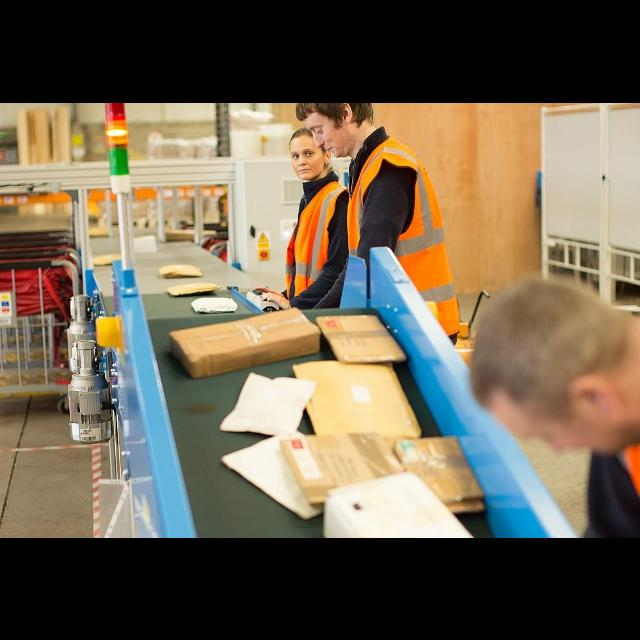box: (170, 307, 320, 377), (323, 471, 472, 537), (134, 235, 156, 250)
mailer: (281, 432, 403, 503), (221, 435, 322, 517), (394, 435, 484, 512), (220, 371, 317, 434), (316, 314, 406, 361), (563, 511, 639, 537), (166, 281, 220, 295), (192, 297, 237, 311), (159, 263, 202, 277), (93, 253, 120, 265)
